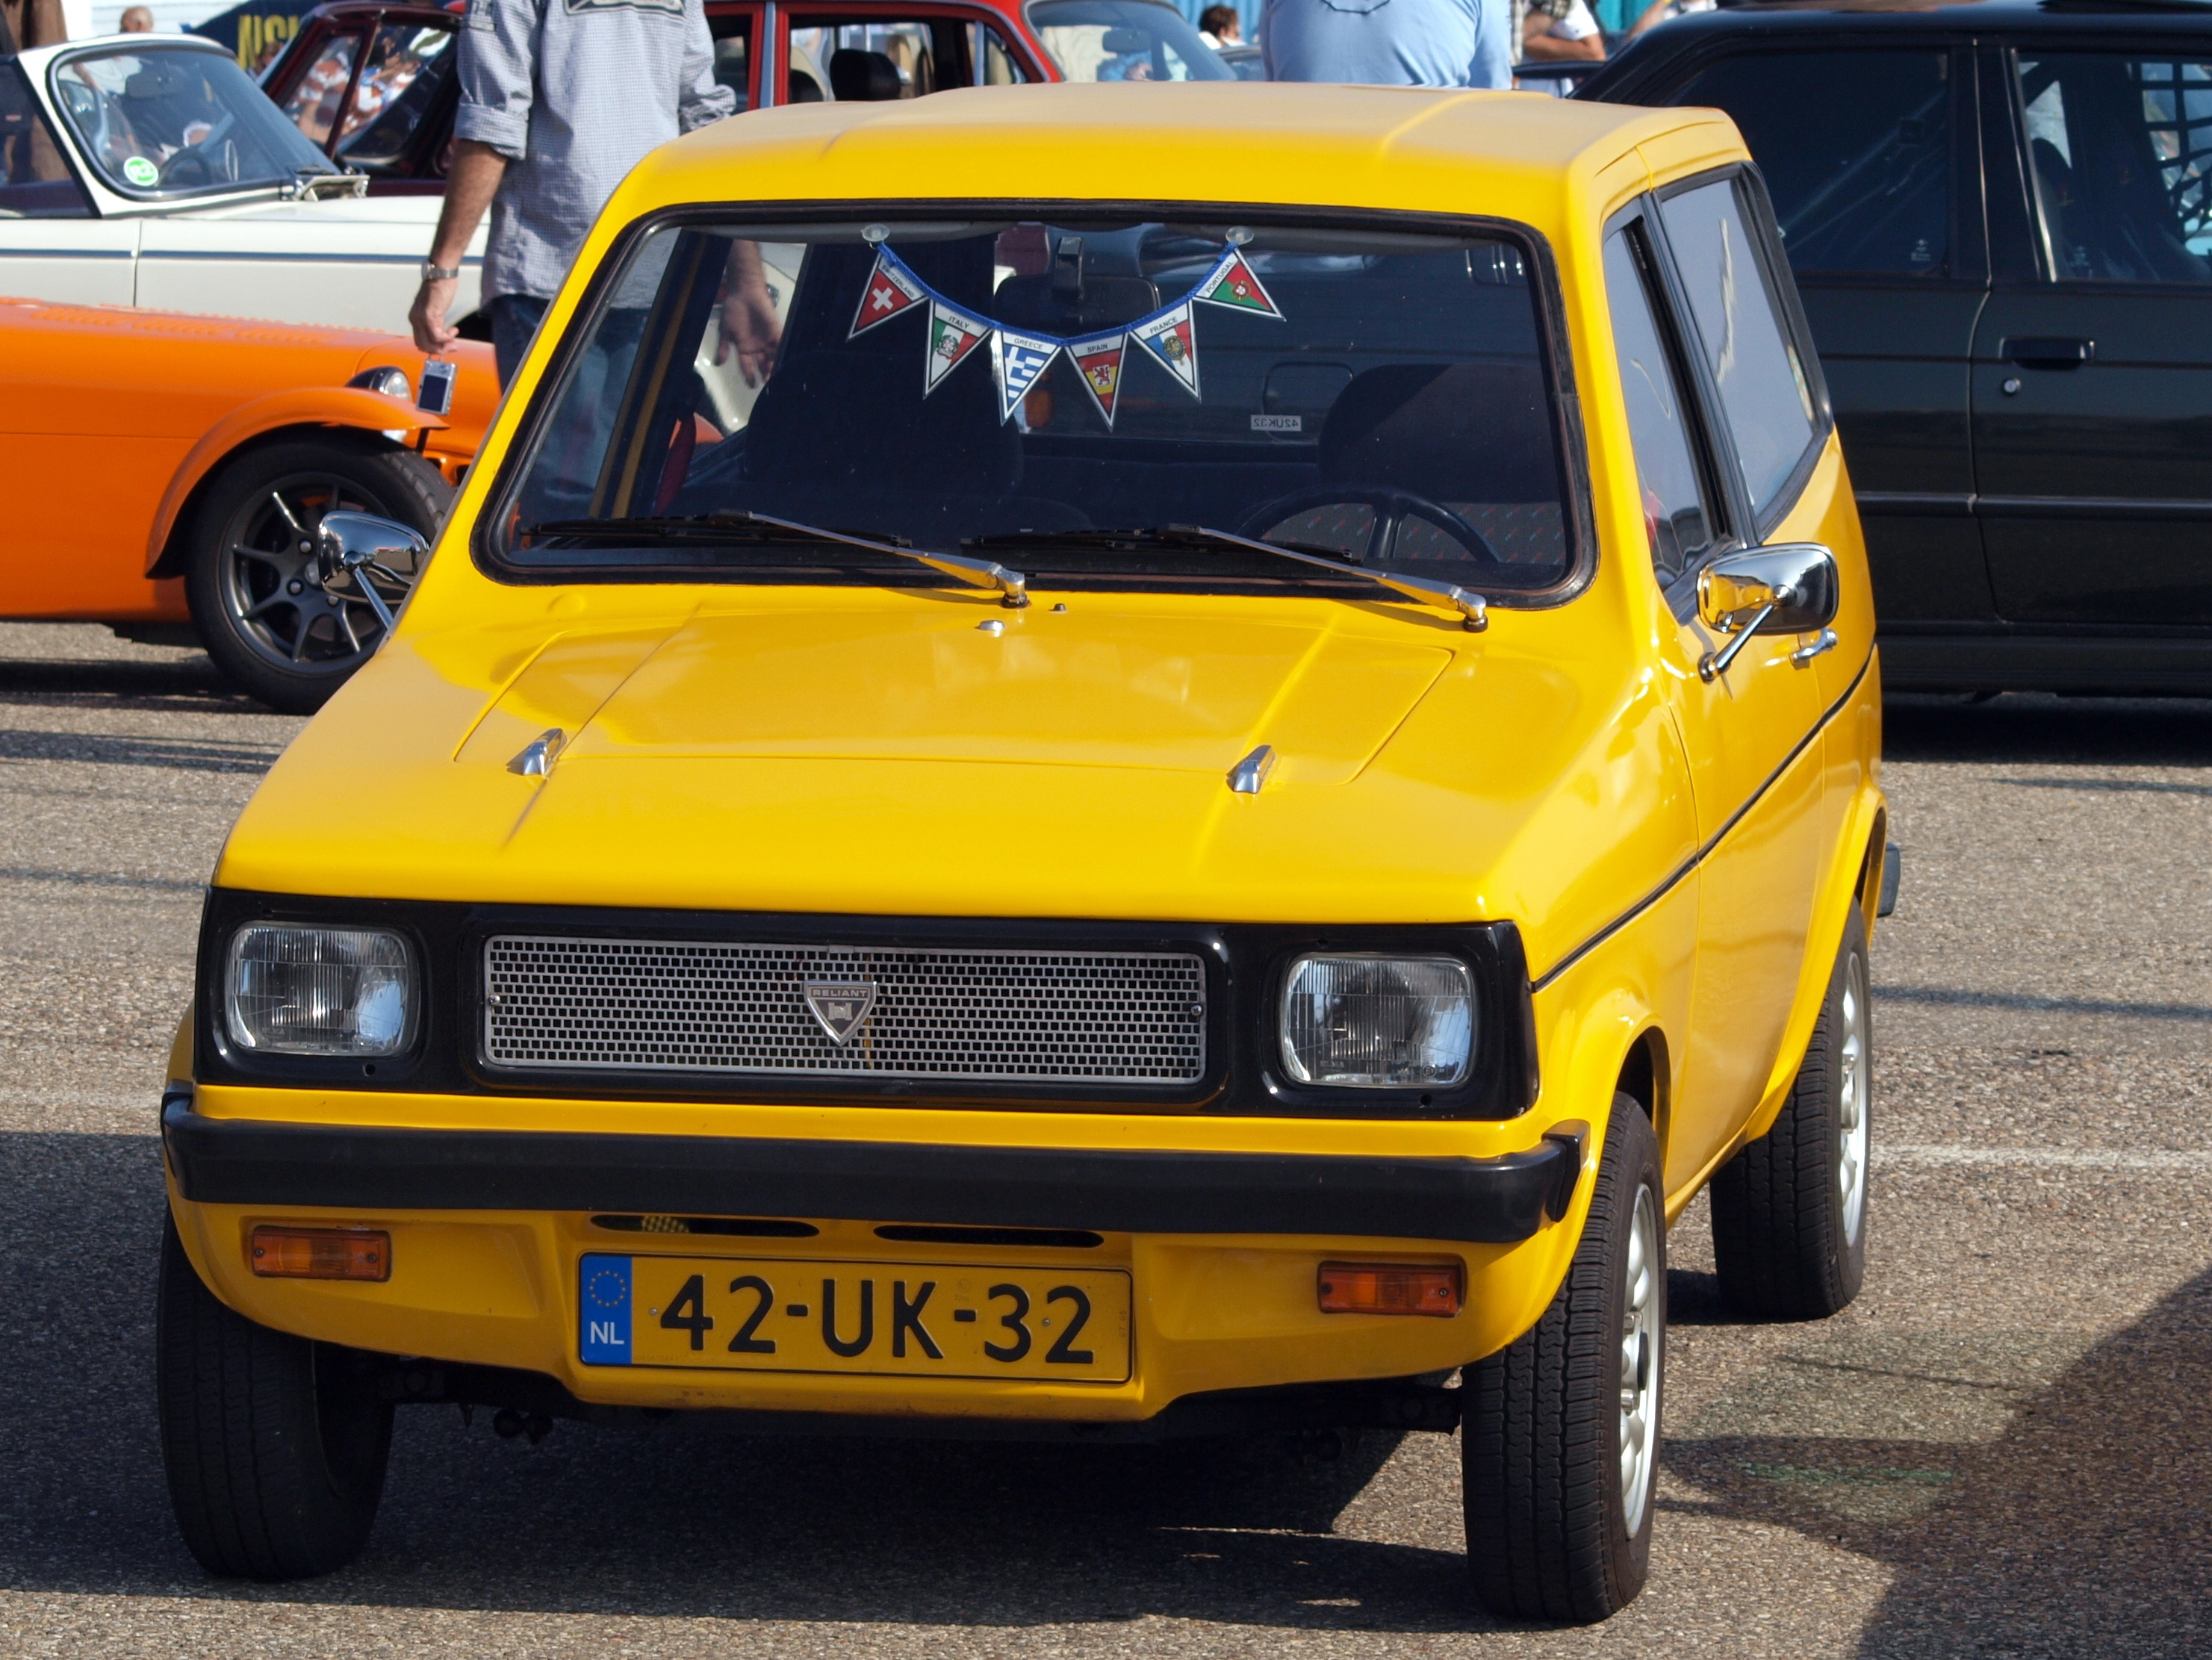num_plate: (588, 1251, 1139, 1382)
